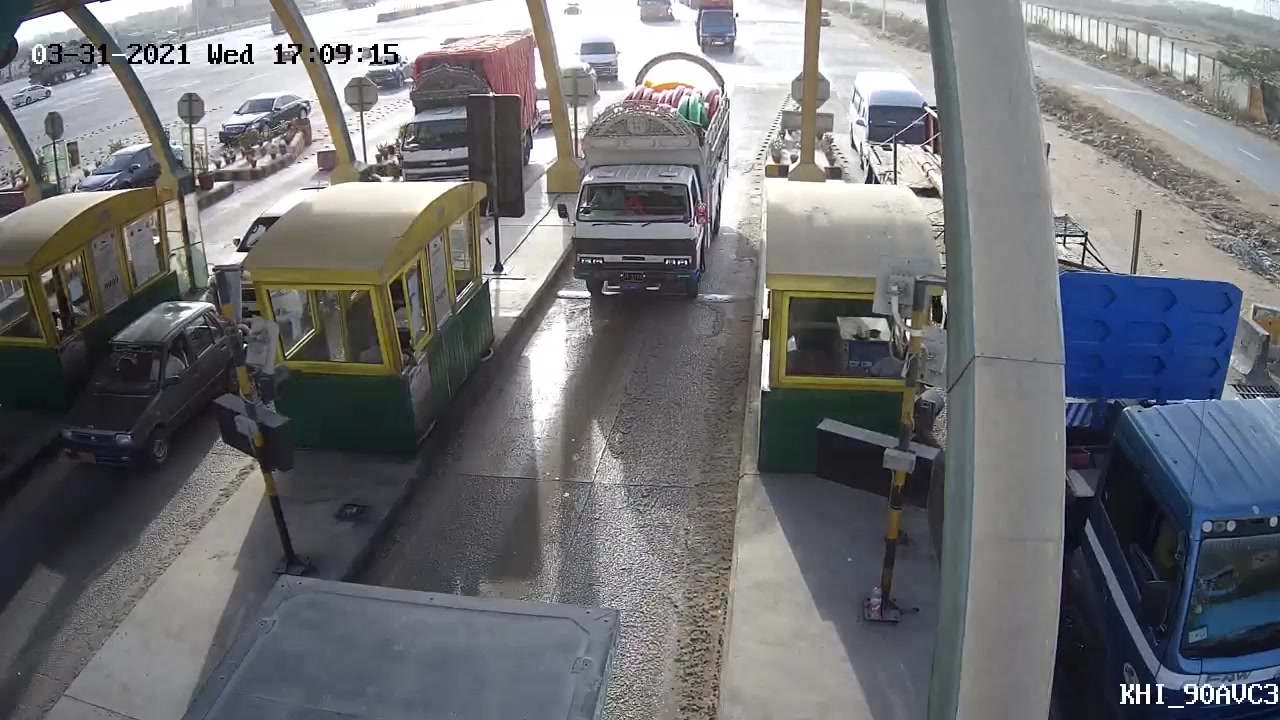F3: (556, 50, 746, 312)
